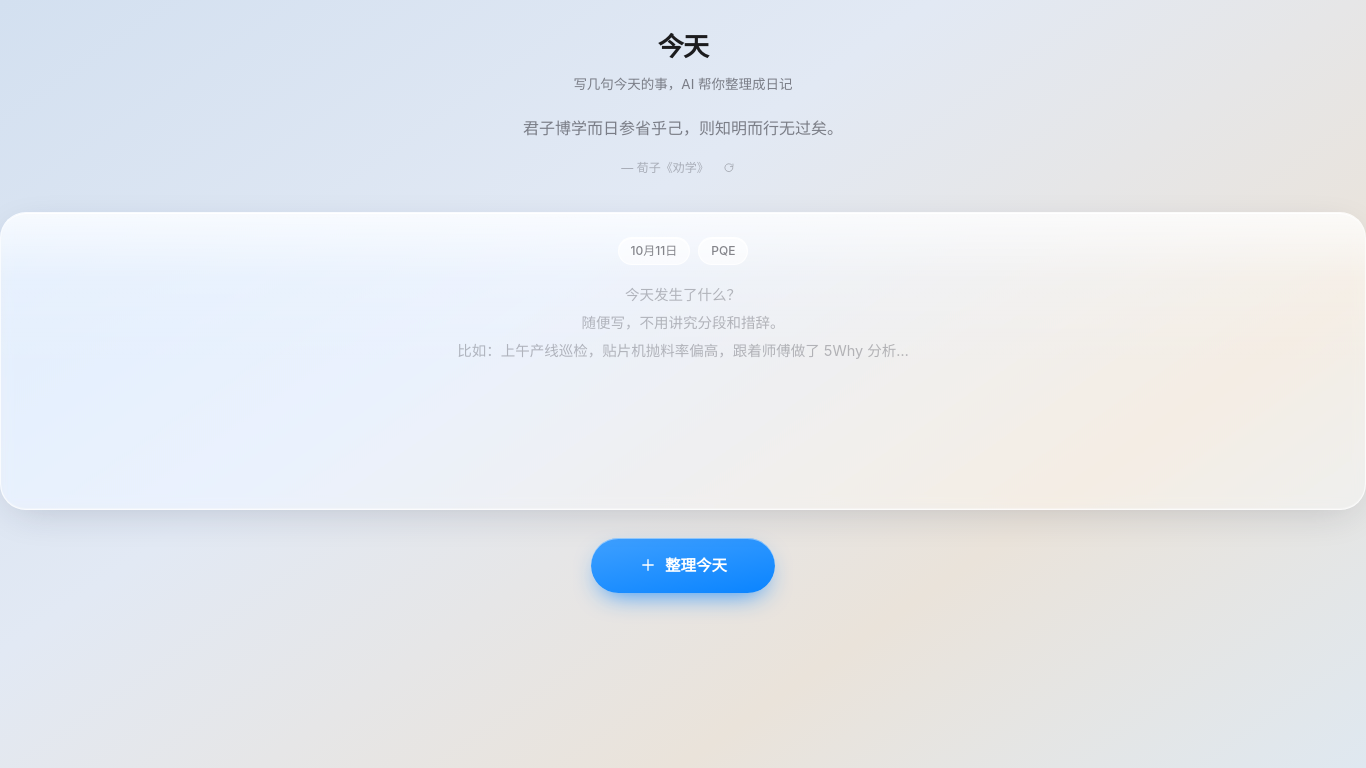
Scenario: DiaryCreatePage 日期选择器 › 点击日期胶囊打开的是日期选择器，而不是文本输入框
The image size is (1366, 768).
Expected: the text box with placeholder "今天发生了什么？ 随便写，不用讲究分段和措辞。 比如：上午产线巡检，贴片机抛料率偏高，跟着师傅做了 5Why 分析…" is shown, 29,281 -> 1337,479
Click the button titled "点击选择日期" at point(654, 251), box 618,237 -> 690,265
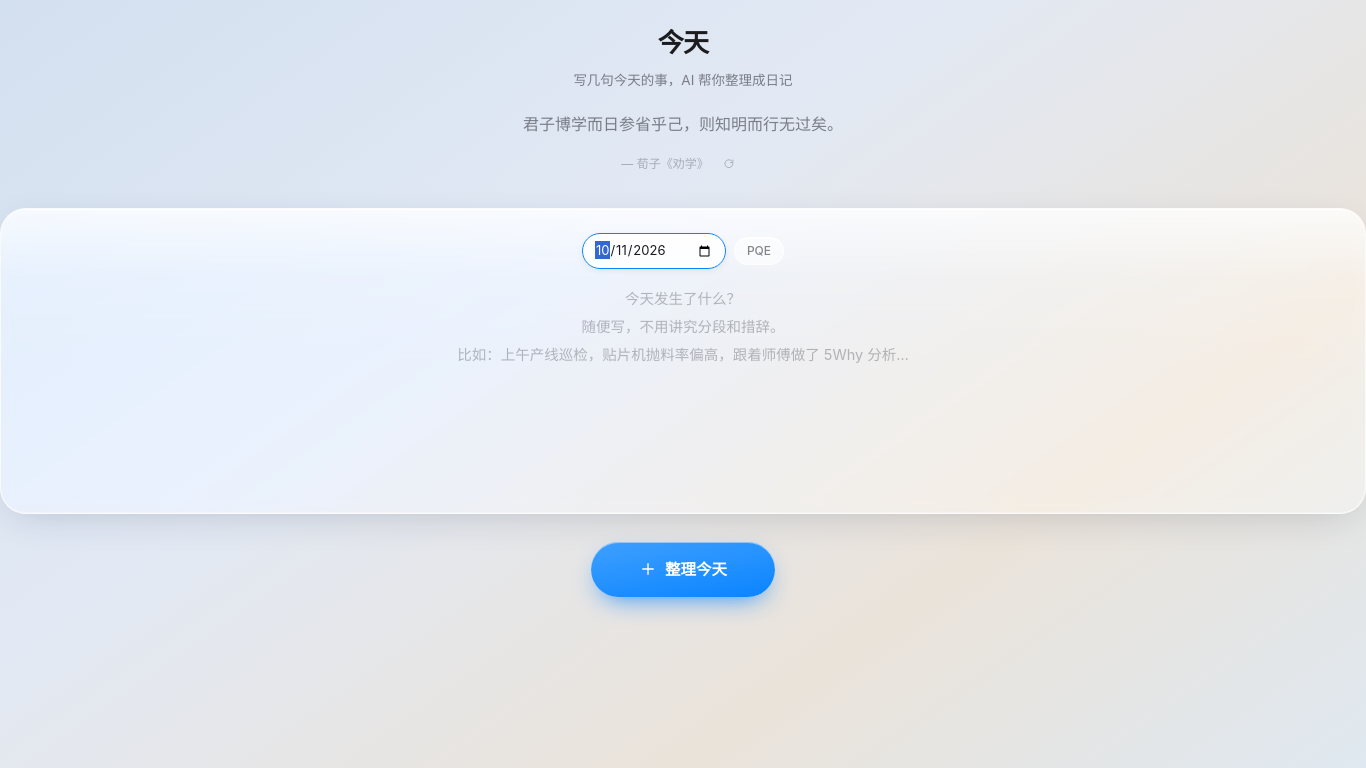
Expected: the date field is shown, 582,233 -> 726,269
